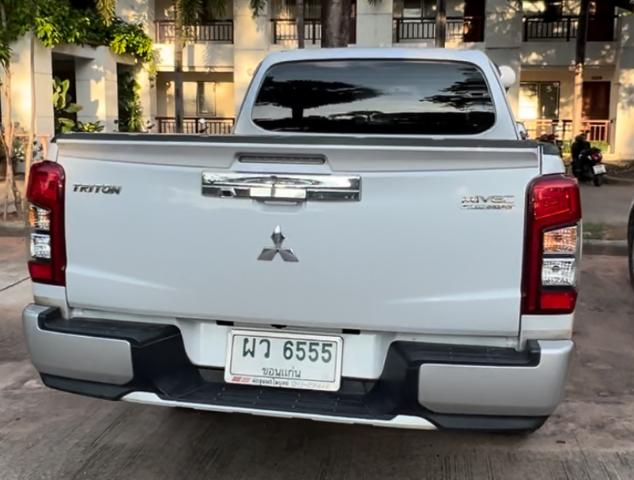pickup-truck: (17, 44, 583, 439)
